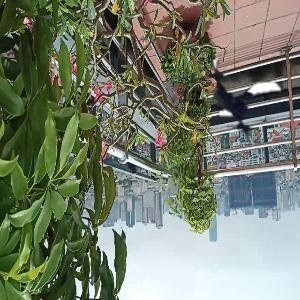drone: (196, 51, 299, 154)
